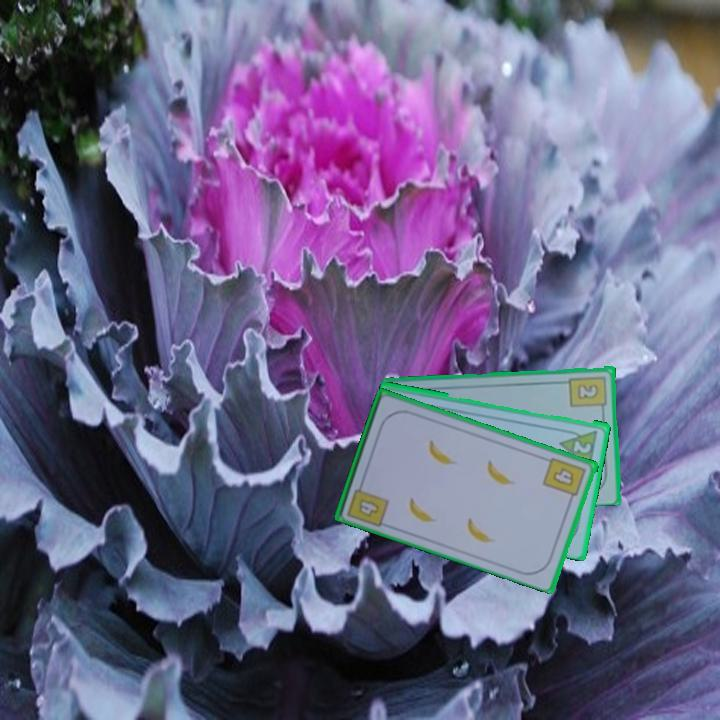2b: (566, 372, 610, 414)
2p: (570, 435, 594, 456)
4b: (540, 454, 589, 505), (355, 495, 382, 520)
